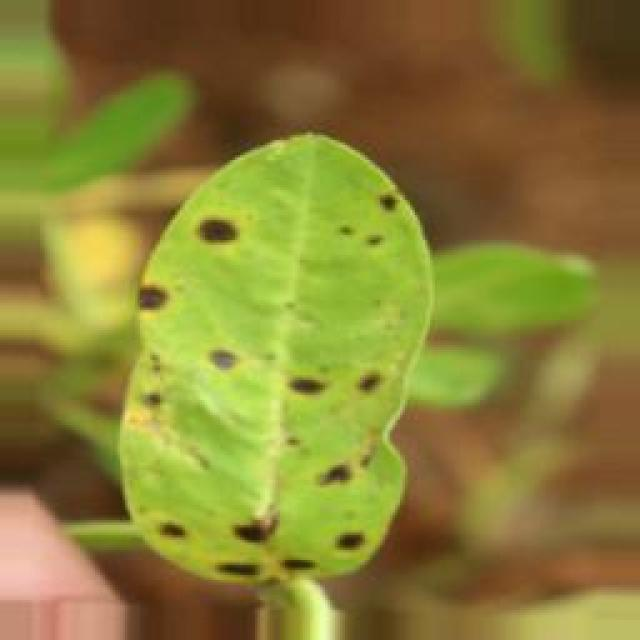Yellowish: (75, 114, 426, 598)
